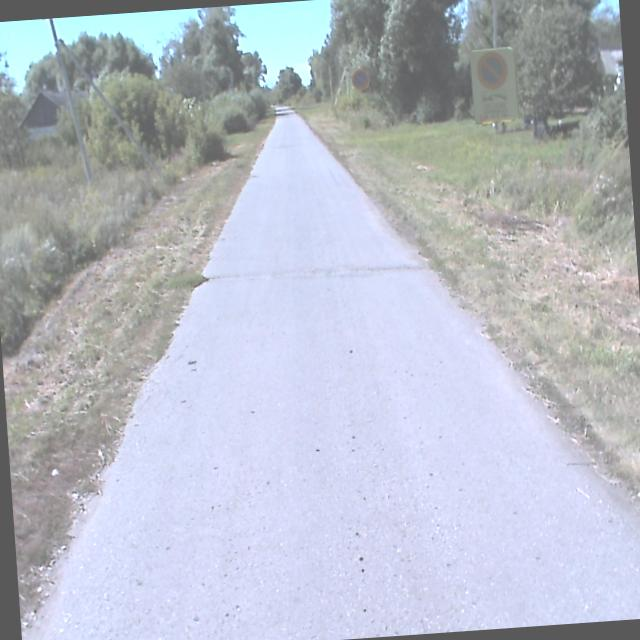road: (29, 117, 640, 640)
